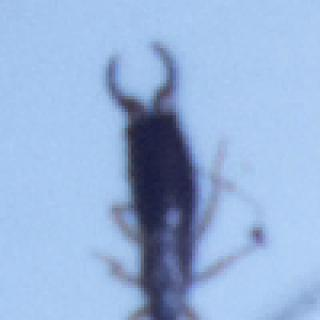earwig: (89, 35, 272, 320)
